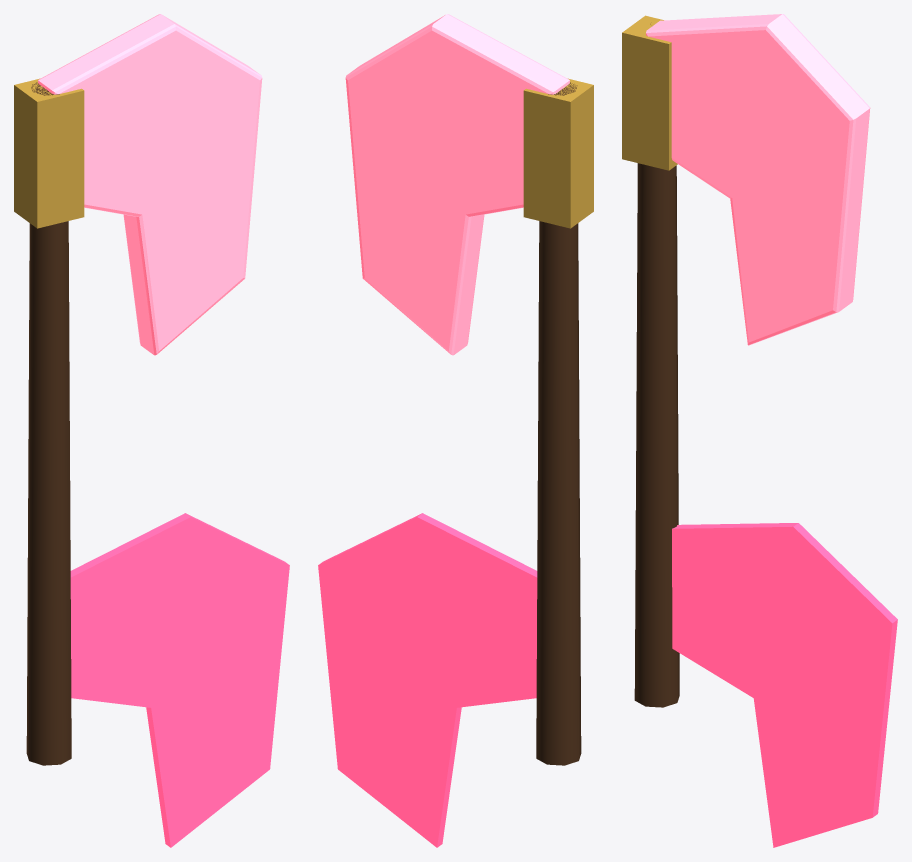
File: axe_f1_2b7c3b66.glb
The picture shows the model from 3 angles, left to right: view 1: azimuth 30°, elevation 25°; view 2: azimuth 150°, elevation 25°; view 3: azimuth 330°, elevation 25°; orthographic projection.
Visible parts, largest first — view 1: m1_gm130_, m2_ow80_, m0_ow80_, m3_ow80_; view 2: m1_gm130_, m2_ow80_, m0_ow80_, m3_ow80_; view 3: m1_gm130_, m2_ow80_, m0_ow80_, m3_ow80_.
Boxes of the visible parts, bbox=[...] form: m1_gm130_: bbox=[70, 513, 289, 847]; m2_ow80_: bbox=[38, 14, 262, 355]; m0_ow80_: bbox=[26, 82, 71, 765]; m3_ow80_: bbox=[14, 78, 84, 228]; m1_gm130_: bbox=[318, 513, 537, 847]; m2_ow80_: bbox=[345, 14, 569, 355]; m0_ow80_: bbox=[536, 82, 581, 765]; m3_ow80_: bbox=[523, 78, 593, 228]; m1_gm130_: bbox=[672, 523, 897, 847]; m2_ow80_: bbox=[646, 14, 870, 345]; m0_ow80_: bbox=[634, 24, 679, 707]; m3_ow80_: bbox=[622, 15, 677, 170].
Size of the model in its own units: 0.778 by 2.35 by 0.12.
